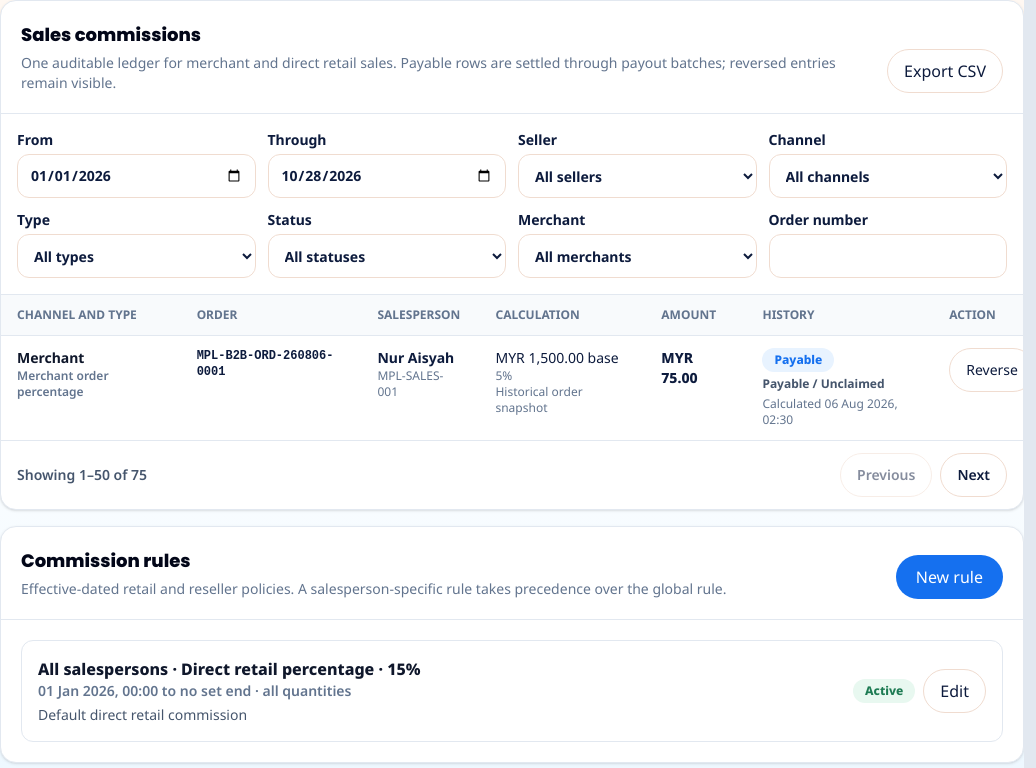
Test case: Commission ledger › pages through commission history instead of hiding records after the first page
expect the text "Showing 1–50 of 75" is shown: met, box [17, 465, 147, 485]
Click the button "Next" at (974, 475), box [940, 453, 1007, 497]
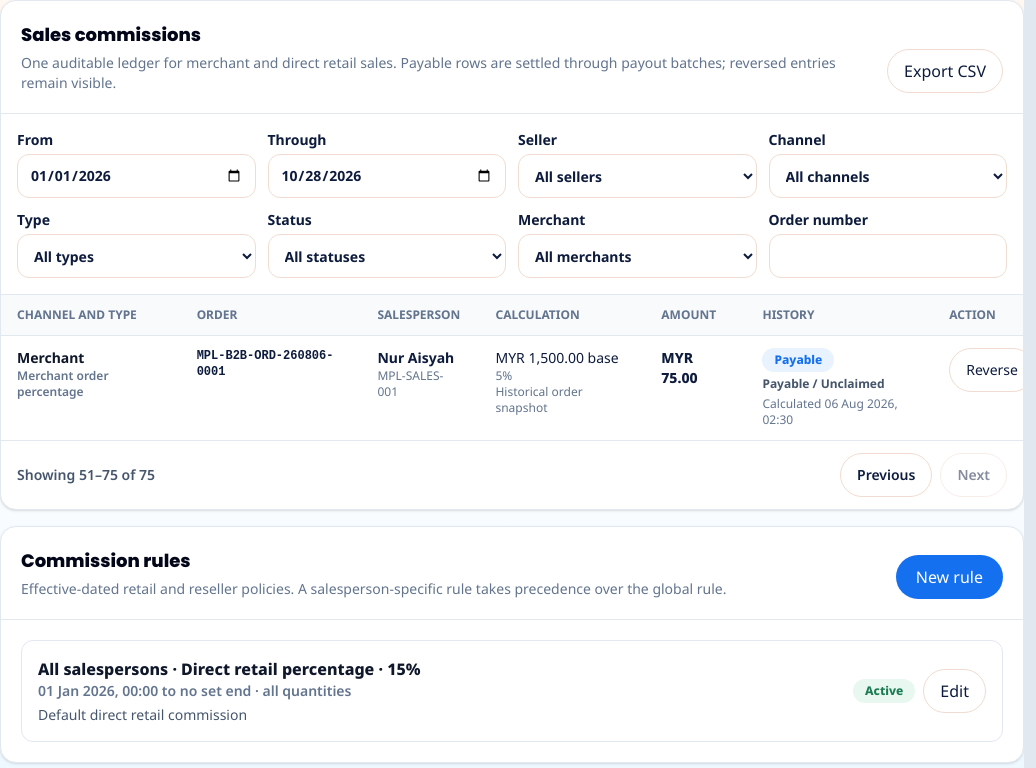
expect the text "Showing 51–75 of 75" is shown: met, box [17, 465, 155, 485]
